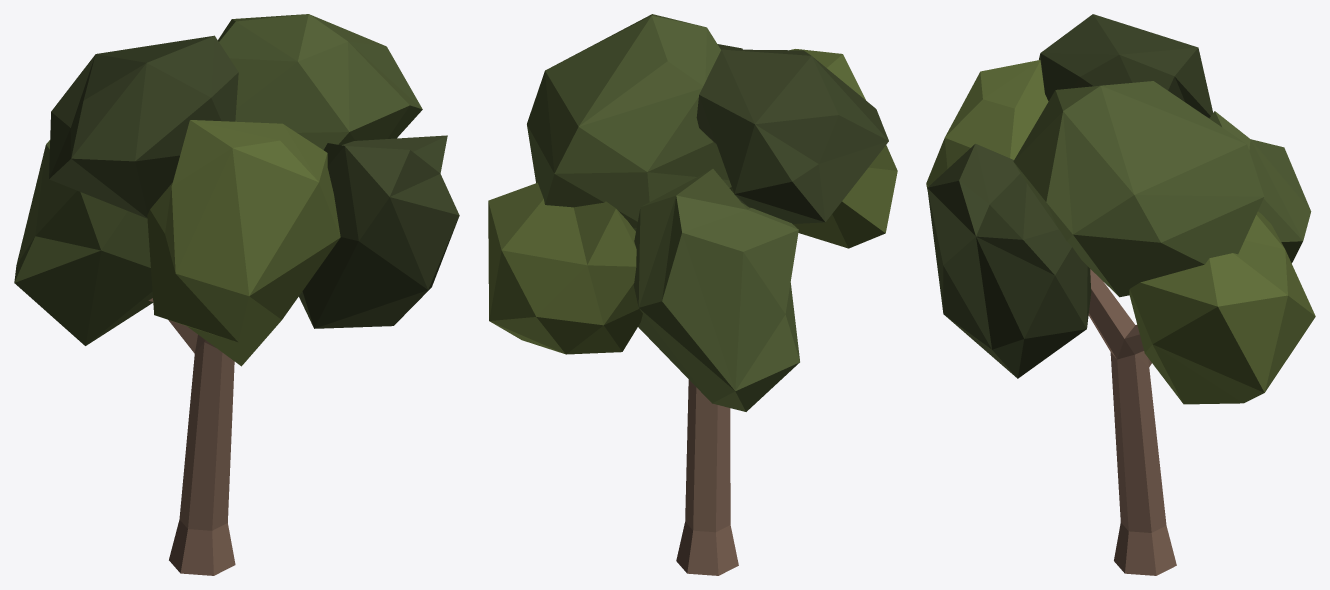
Rendered from Tree Type0 05.glb.
3 views of the same model, side by side, from view 1: azimuth 30°, elevation 25°; view 2: azimuth 150°, elevation 25°; view 3: azimuth 270°, elevation 25° (orthographic). The views are drawn at different scales.
Parts seen in each view (by area): view 1: Tree_Type0_05_mesh; view 2: Tree_Type0_05_mesh; view 3: Tree_Type0_05_mesh.
Boxes of the visible parts, x1,y1,x2,y2 form: Tree_Type0_05_mesh: (14,14,459,575); Tree_Type0_05_mesh: (488,14,897,575); Tree_Type0_05_mesh: (926,14,1315,575).
Bounding box in the file's own units: 2.32 × 3.39 × 2.32.
Materials: 1 (1 with a texture image).
